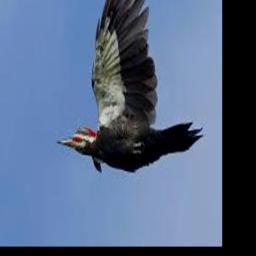Woodpecker: (56, 0, 204, 171)
